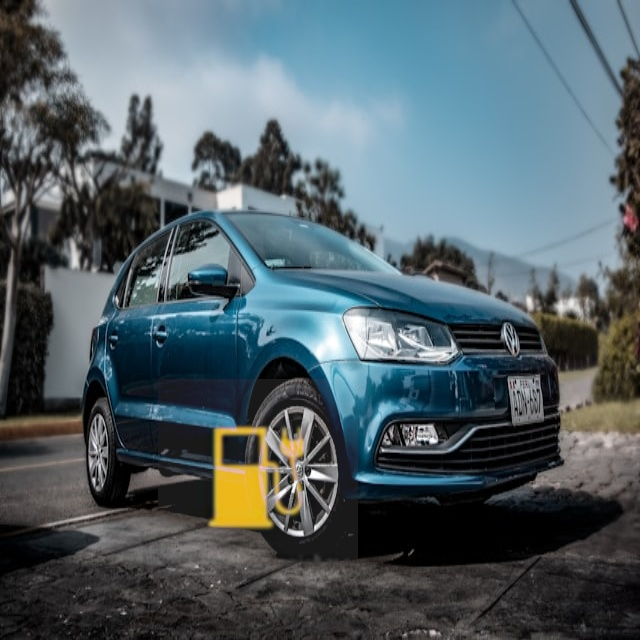symbol: (158, 379, 358, 579)
